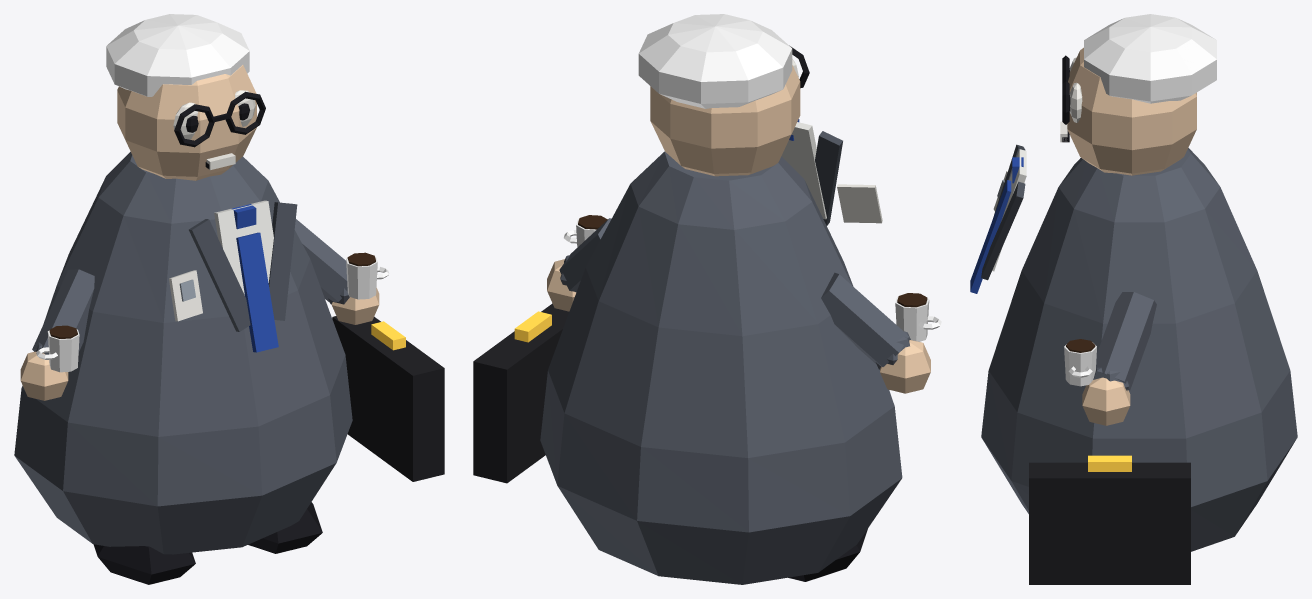
Rendered from npc_oficinista.glb.
The picture shows the model from 3 angles, left to right: view 1: azimuth 30°, elevation 25°; view 2: azimuth 150°, elevation 25°; view 3: azimuth 270°, elevation 25°; orthographic projection. The views are drawn at different scales.
Parts seen in each view (by area): view 1: body_suit_grey (×2), briefcase_briefcase_black, head_skin_crema, hair_hair, body_suit_lapel, arms_suit_grey, legs_black, body_tie, arms_skin_crema, body_office_shirt, glasses_black, cup_right_office_cup (+4 smaller); view 2: body_suit_grey (×2), hair_hair, briefcase_briefcase_black, head_skin_crema, arms_suit_grey, arms_skin_crema, body_office_shirt, body_suit_lapel, body_white, cup_right_office_cup, legs_black, briefcase_gold; view 3: body_suit_grey (×2), briefcase_briefcase_black, hair_hair, head_skin_crema, arms_suit_grey, arms_skin_crema, body_suit_lapel, body_tie, cup_left_office_cup, briefcase_gold, glasses_black, body_office_shirt (+1 smaller).
Part boxes in pixels (left/top/right/bottom): body_suit_grey (×2): left=14, top=152, right=352, bottom=554; briefcase_briefcase_black: left=332, top=316, right=444, bottom=481; head_skin_crema: left=117, top=65, right=256, bottom=180; hair_hair: left=106, top=14, right=249, bottom=96; body_suit_lapel: left=189, top=202, right=297, bottom=331; arms_suit_grey: left=32, top=219, right=349, bottom=354; legs_black: left=93, top=502, right=322, bottom=584; body_tie: left=232, top=204, right=278, bottom=352; arms_skin_crema: left=20, top=287, right=379, bottom=400; body_office_shirt: left=214, top=200, right=273, bottom=319; glasses_black: left=174, top=91, right=265, bottom=147; cup_right_office_cup: left=36, top=329, right=79, bottom=372; body_suit_grey (×2): left=540, top=151, right=902, bottom=584; hair_hair: left=638, top=14, right=792, bottom=108; briefcase_briefcase_black: left=473, top=303, right=568, bottom=483; head_skin_crema: left=650, top=65, right=800, bottom=176; arms_suit_grey: left=559, top=218, right=910, bottom=369; arms_skin_crema: left=547, top=259, right=930, bottom=393; body_office_shirt: left=781, top=122, right=826, bottom=219; body_suit_lapel: left=815, top=131, right=842, bottom=225; body_white: left=837, top=184, right=882, bottom=223; cup_right_office_cup: left=895, top=297, right=941, bottom=341; legs_black: left=788, top=529, right=867, bottom=581; briefcase_gold: left=514, top=311, right=551, bottom=342; body_suit_grey (×2): left=981, top=148, right=1297, bottom=551; briefcase_briefcase_black: left=1029, top=462, right=1190, bottom=584; hair_hair: left=1084, top=14, right=1216, bottom=103; head_skin_crema: left=1067, top=47, right=1196, bottom=175; arms_suit_grey: left=1093, top=292, right=1156, bottom=390; arms_skin_crema: left=1082, top=377, right=1130, bottom=425; body_suit_lapel: left=981, top=144, right=1025, bottom=280; body_tie: left=970, top=157, right=1023, bottom=293; cup_left_office_cup: left=1064, top=342, right=1096, bottom=386; briefcase_gold: left=1088, top=455, right=1131, bottom=471; glasses_black: left=1062, top=55, right=1069, bottom=124; body_office_shirt: left=992, top=149, right=1026, bottom=271.
Bounding box in the file's own units: 1.21 × 1.54 × 0.8898.
